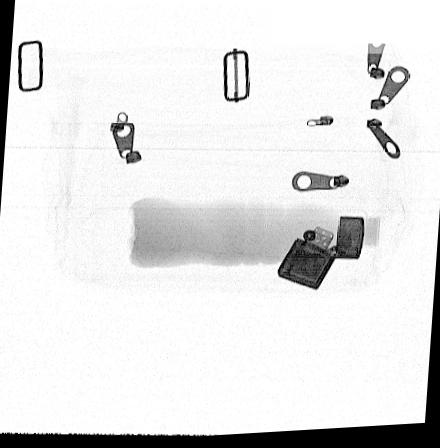Lighter: (277, 219, 365, 294)
